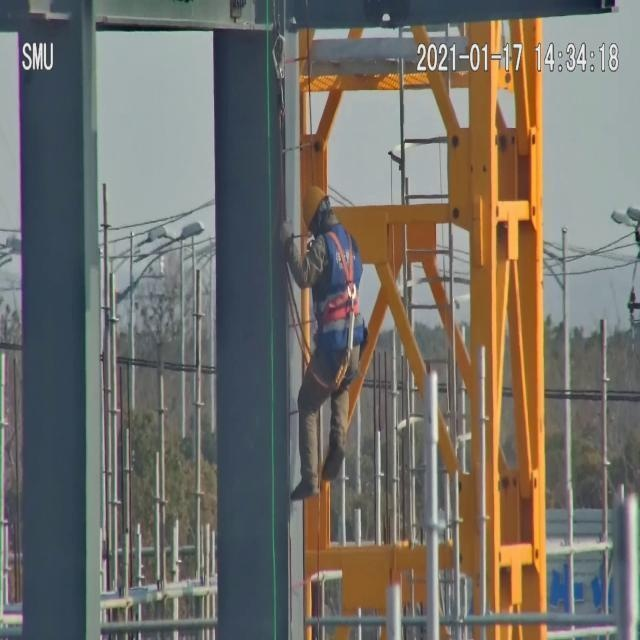Arnes_seguridad: (313, 214, 364, 338)
